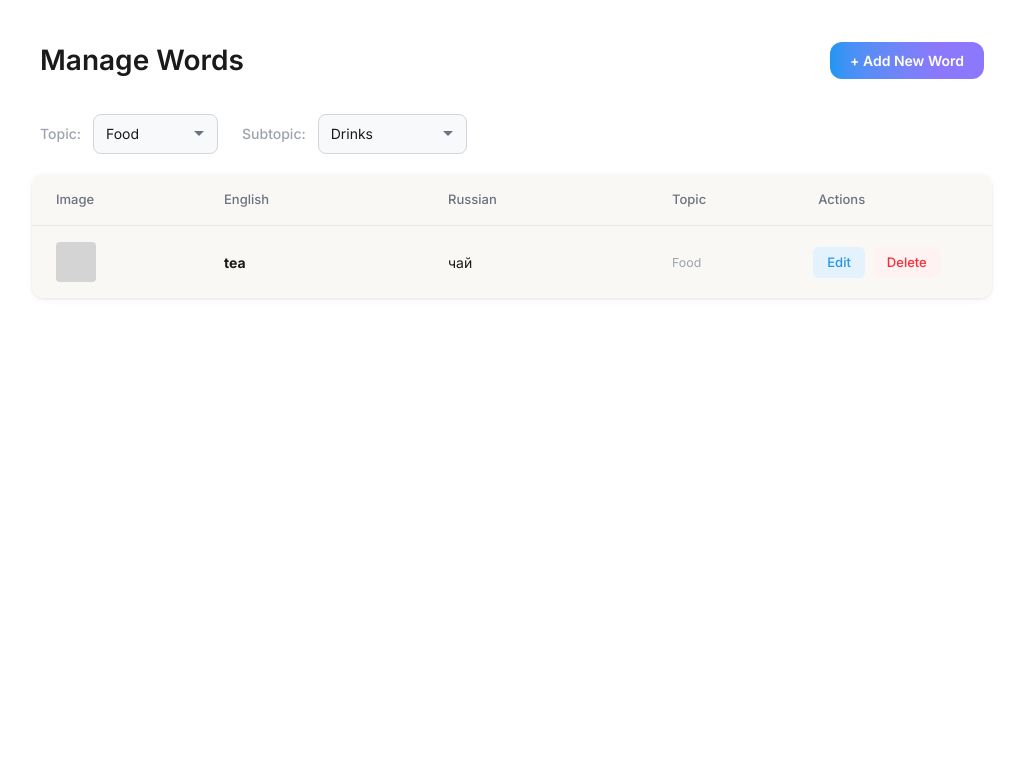
Test: AdminWords › opens Edit form for a word
Expected: the text "tea" is shown, [224,254,246,271]
Click the button "Edit".
click(839, 262)  # box [813,247,865,278]
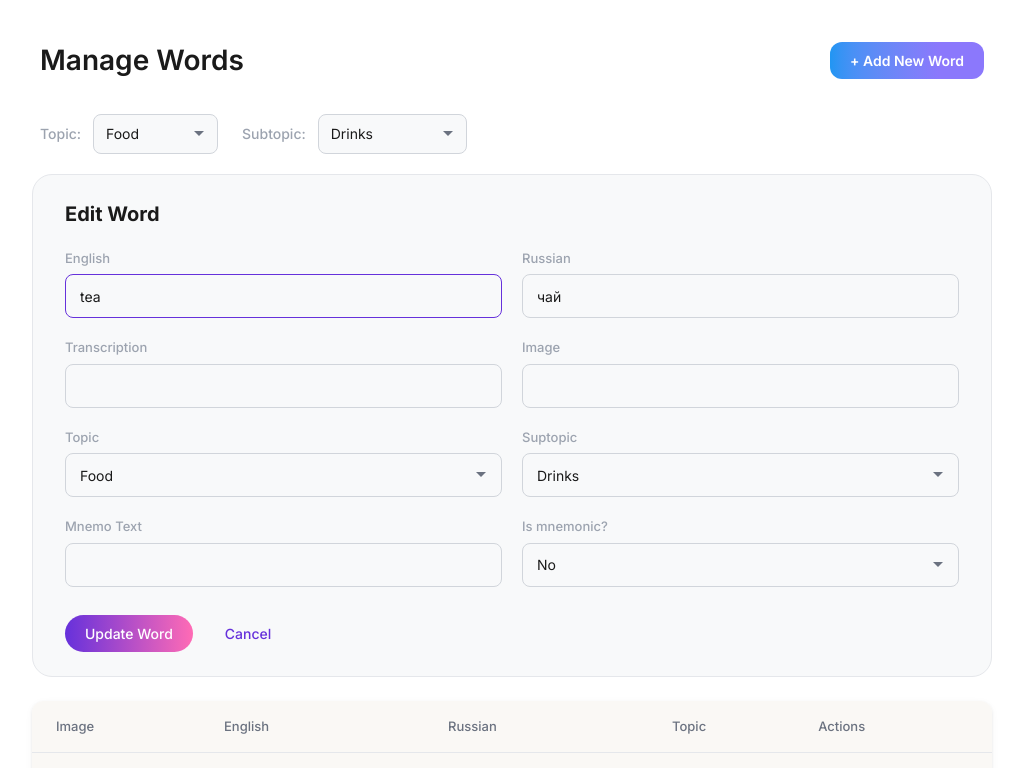
Expected: the heading "Edit Word" is shown, [65,202,160,226]
